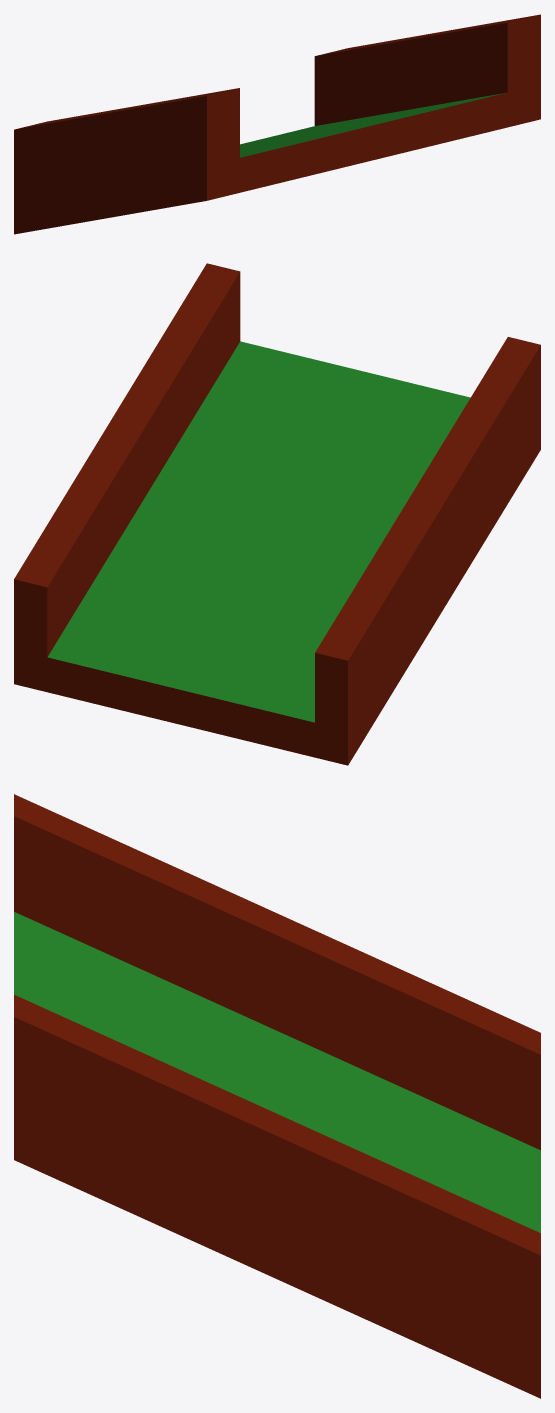
The model's file is Ramp.obj.
The picture shows the model from 3 angles, top to bottom: view 1: azimuth 30°, elevation 25°; view 2: azimuth 150°, elevation 25°; view 3: azimuth 270°, elevation 25°; orthographic projection. The views are drawn at different scales.
Parts seen in each view (by area): view 1: Ramp; view 2: Ramp; view 3: Ramp.
Boxes of the visible parts, x1=… form: Ramp: x1=14, y1=14, x2=540, y2=234; Ramp: x1=14, y1=263, x2=540, y2=765; Ramp: x1=14, y1=794, x2=540, y2=1398.
Size of the model in its own units: 2 by 1.6 by 2.
